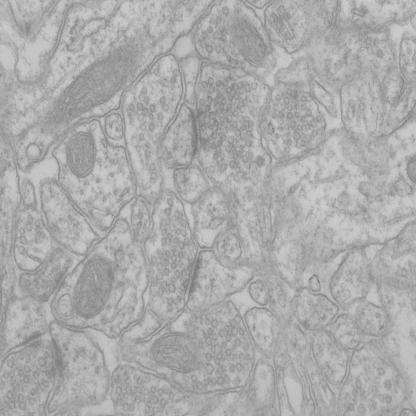mitochondria: (45, 43, 137, 138), (71, 256, 117, 322), (151, 330, 203, 373), (233, 13, 270, 68), (64, 128, 98, 180)
